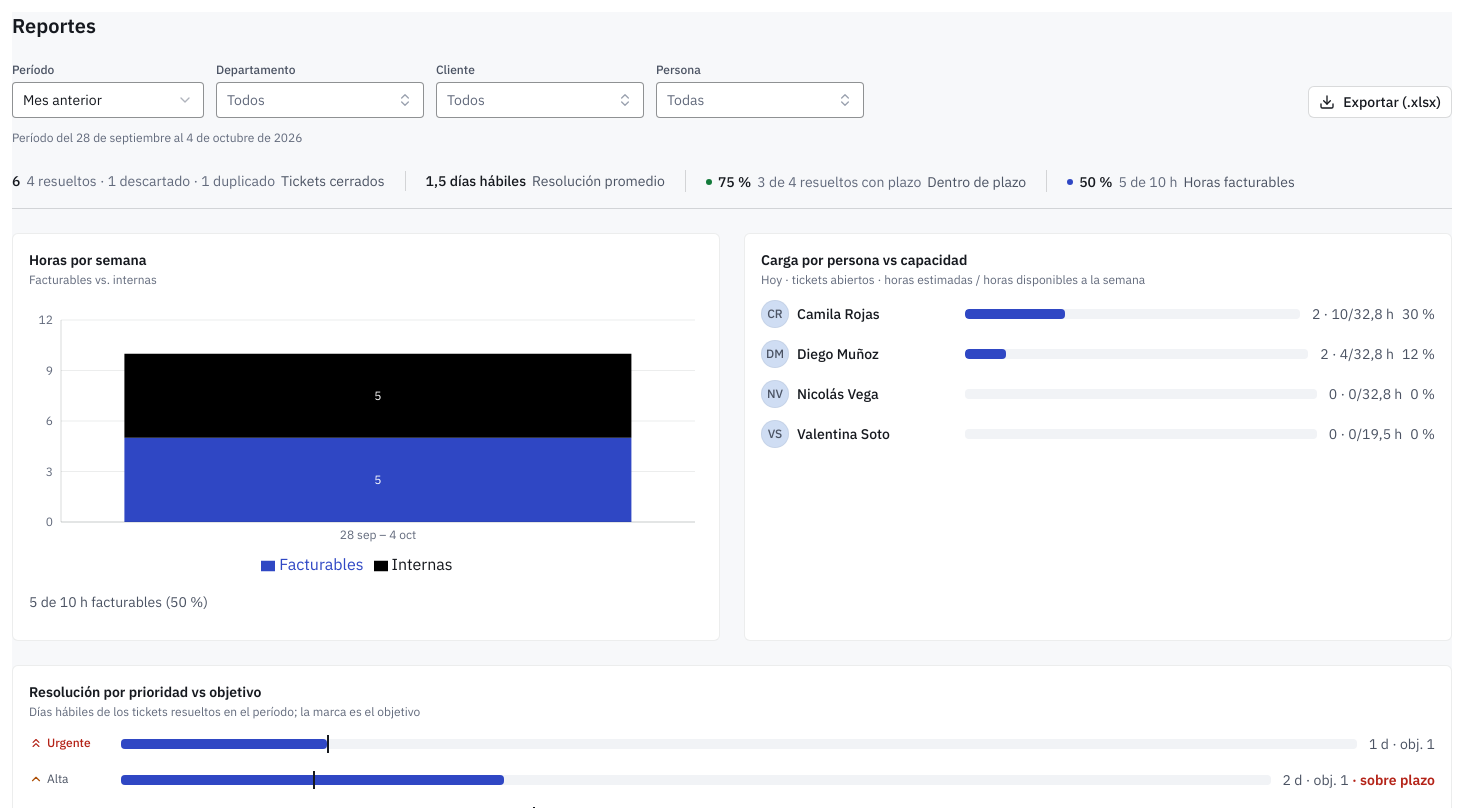
Test case: elegir «Personalizado» muestra las dos fechas
Click the dropdown named "Período" at point(108, 100), box [12,82,204,118]
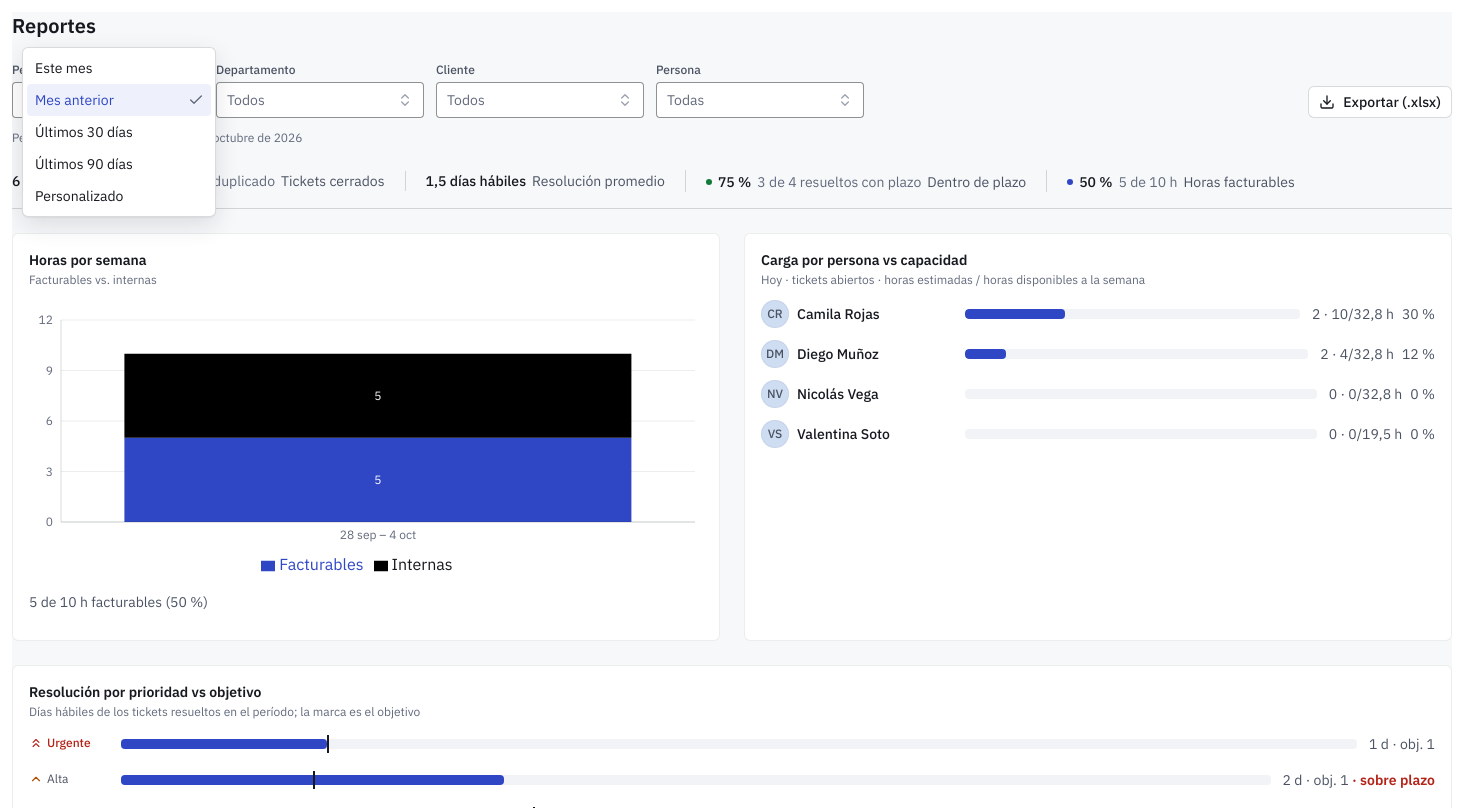
Click the option "Personalizado" at point(79, 196), box [35,187,123,205]
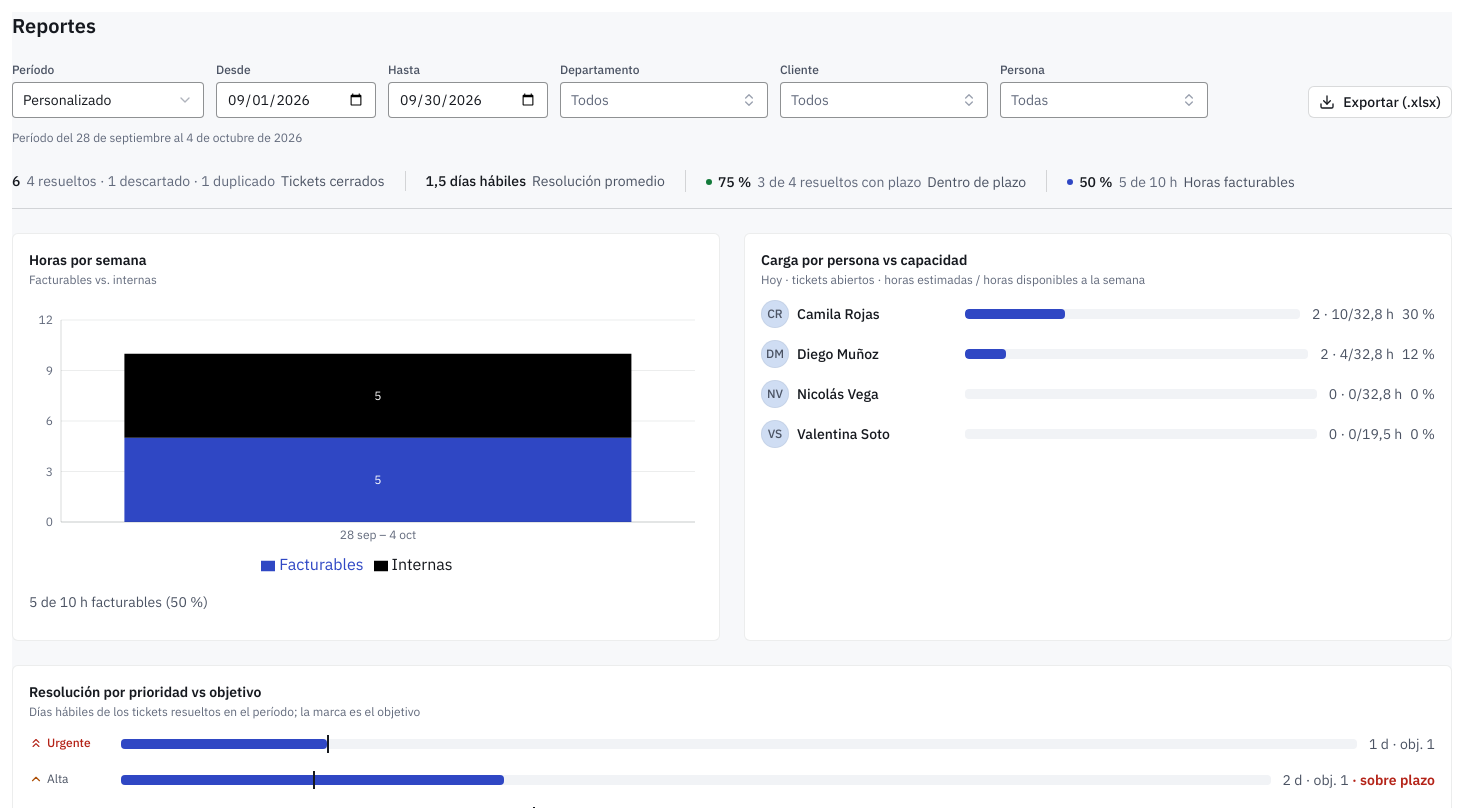
Expected: the date field labelled "Desde" holds "2026-09-01", [216,82,376,118]
Expected: the date field labelled "Hasta" holds "2026-09-30", [388,82,548,118]
